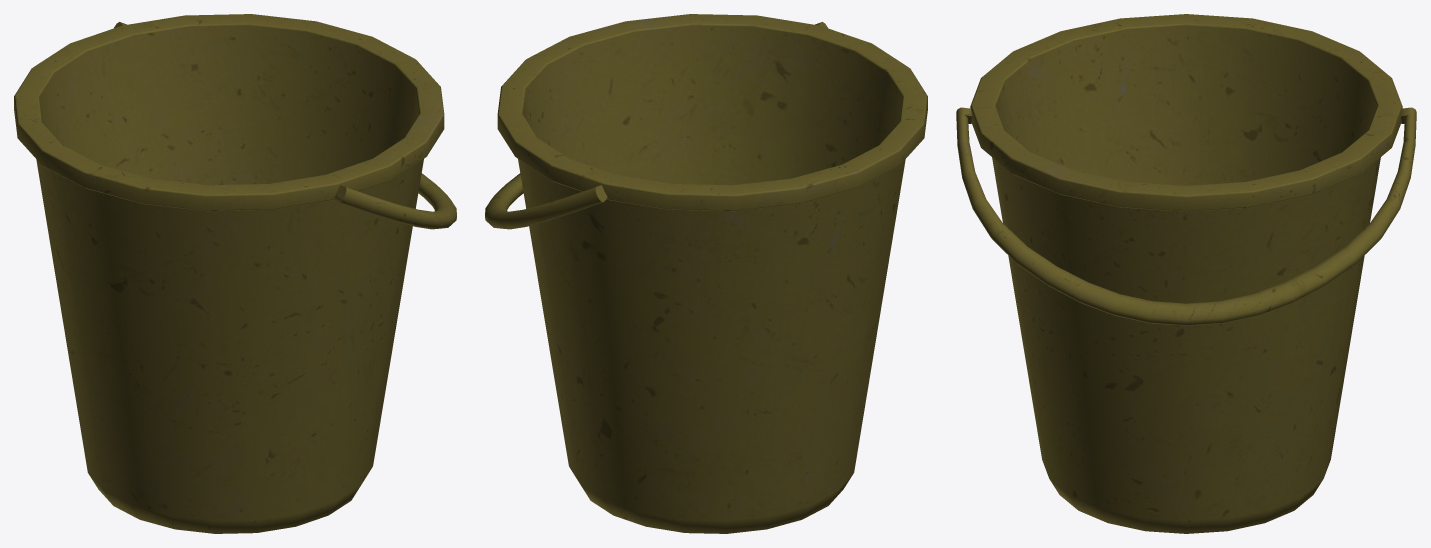
File: SM_Bucket.glb
3 renders of one model, left to right at view 1: azimuth 30°, elevation 25°; view 2: azimuth 150°, elevation 25°; view 3: azimuth 270°, elevation 25°, orthographic.
Visible parts, largest first — view 1: SM_Bucket; view 2: SM_Bucket; view 3: SM_Bucket.
Boxes of the visible parts, x1,y1,x2,y2 form: SM_Bucket: (14,14,456,533); SM_Bucket: (485,14,927,533); SM_Bucket: (956,14,1416,533).
Size of the model in its own units: 0.2862 by 0.2721 by 0.2988.
Materials: 1 (1 with a texture image).
